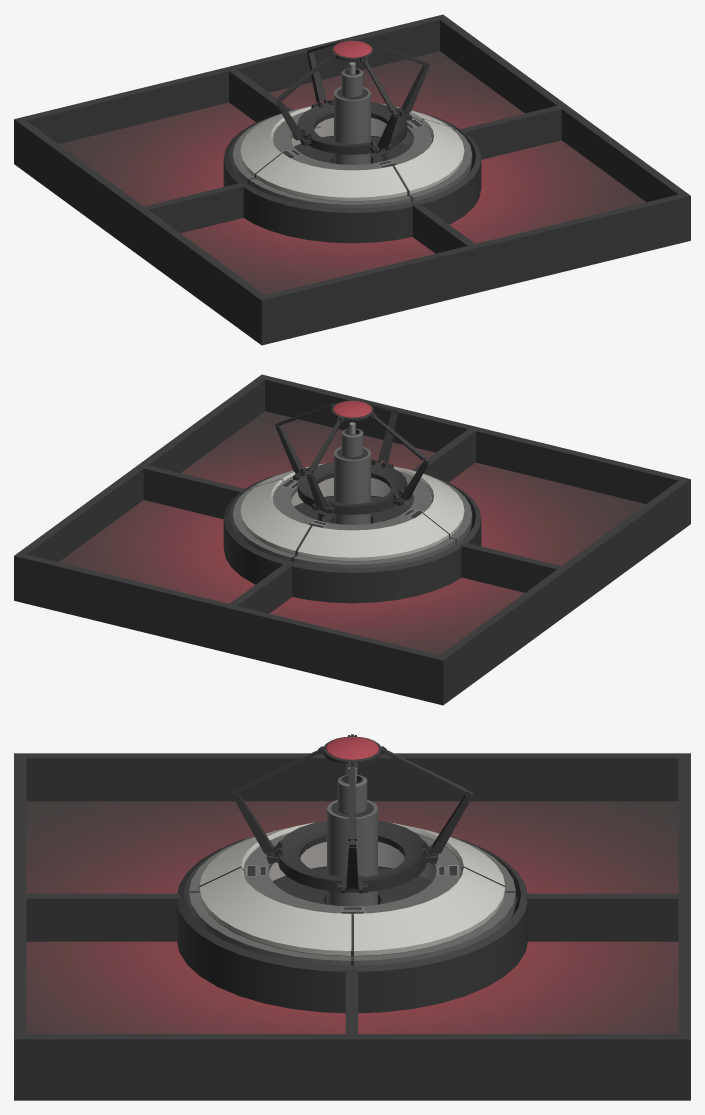
The model's file is EDITOR_laser_emitter.obj.
3 renders of one model, top to bottom at view 1: azimuth 30°, elevation 25°; view 2: azimuth 150°, elevation 25°; view 3: azimuth 270°, elevation 25°, orthographic. The views are drawn at different scales.
Visible parts, largest first — view 1: EDITOR_laser_emitter; view 2: EDITOR_laser_emitter; view 3: EDITOR_laser_emitter.
Part boxes in pixels (x1,y1,x2,y2): EDITOR_laser_emitter: (14, 14, 690, 345); EDITOR_laser_emitter: (14, 374, 690, 705); EDITOR_laser_emitter: (14, 734, 690, 1100).
Size of the model in its own units: 64 by 22.27 by 64.
1 material, 1 textured.
